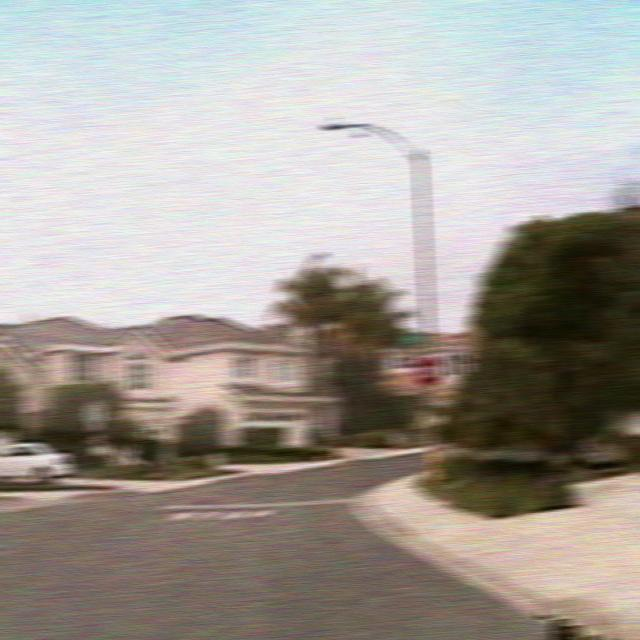stop: (414, 353, 443, 388)
